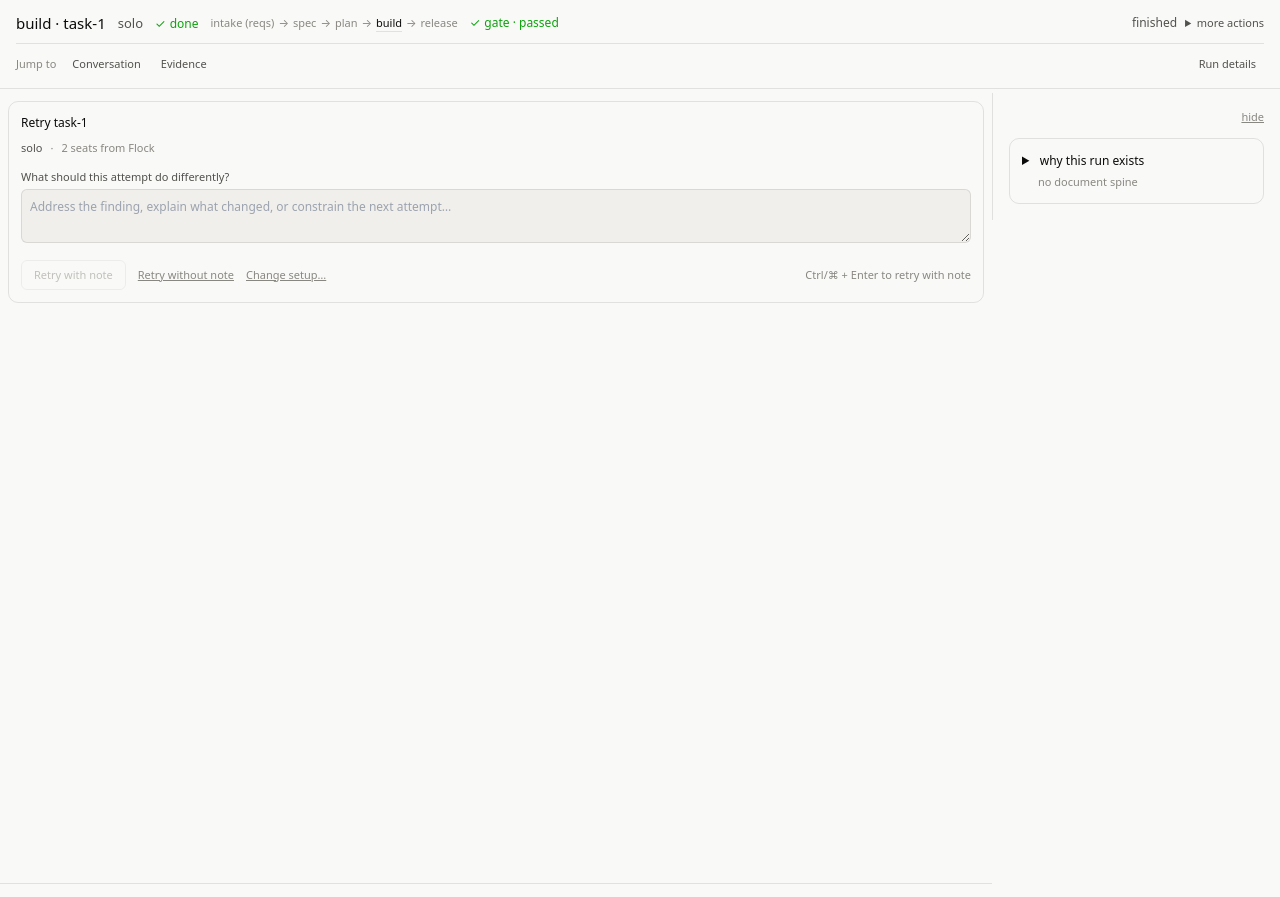
Scenario: RunView origin panel › says plainly when the run has no document spine
This screenshot has width=1280, height=897.
Expected: the text with test id "run-origin-summary" reads "no document spine", left=1038, top=174, right=1138, bottom=189
Click the heading with test id "run-origin-summary".
click(1091, 170)  # box left=1038, top=152, right=1144, bottom=189
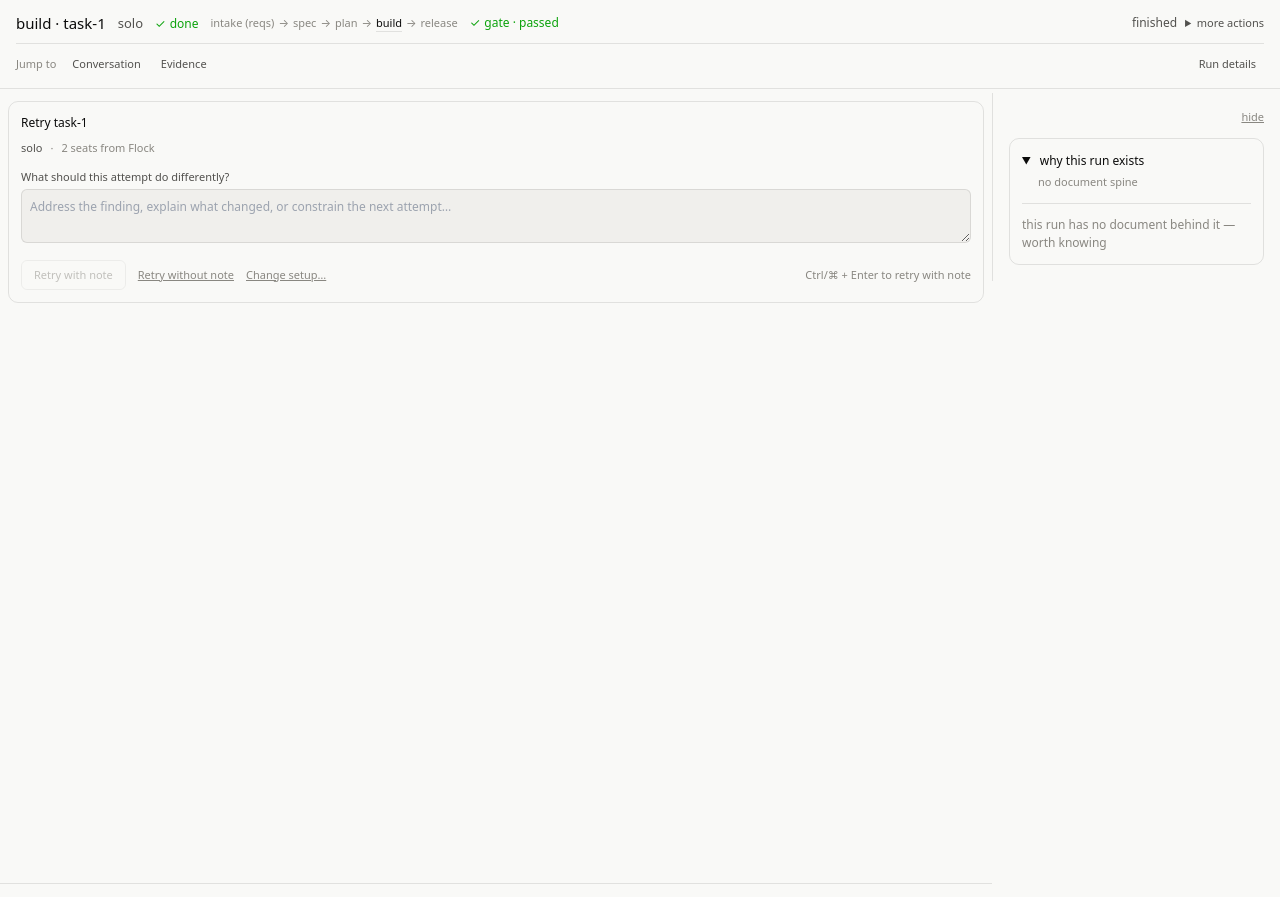
Expected: the text with test id "run-origin-none" reads "this run has no document behind it — worth knowing", left=1022, top=216, right=1235, bottom=250
